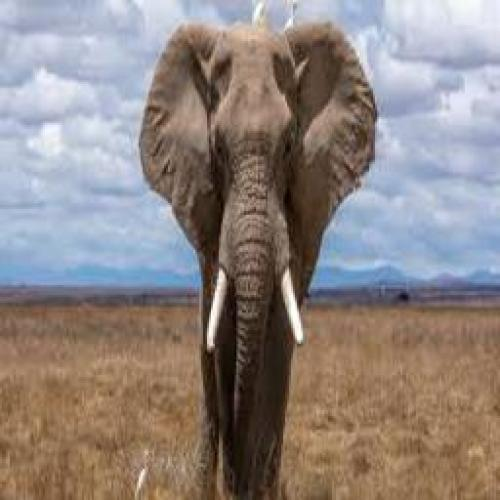african_elephant-endangered: (136, 19, 369, 500)
